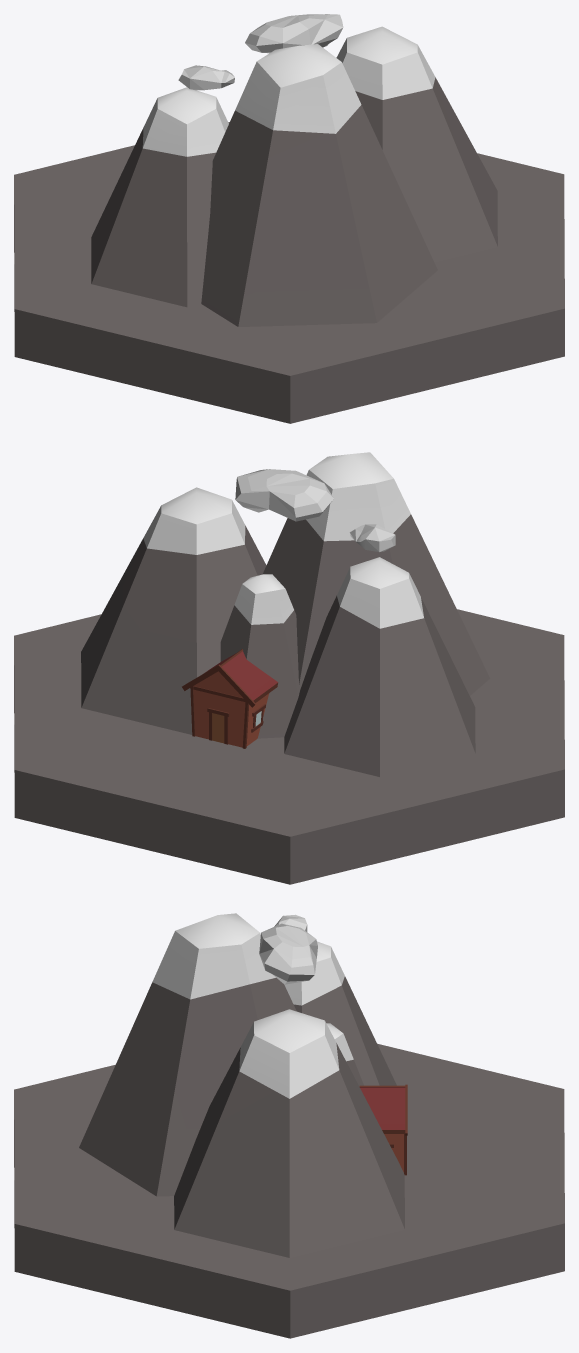
The model's file is Planet_Mine_Hexagon.fbx.
The picture shows the model from 3 angles, top to bottom: view 1: azimuth 30°, elevation 25°; view 2: azimuth 150°, elevation 25°; view 3: azimuth 270°, elevation 25°; orthographic projection.
Visible parts, largest first — view 1: polySurface11, polySurface15, polySurface17, pSphere33, pSphere34; view 2: polySurface11, polySurface17, polySurface15, polySurface16, pCube108, pSphere33, pSphere34; view 3: polySurface11, polySurface15, polySurface17, pSphere33, pCube108, polySurface16.
Part boxes in pixels (left/top/right/bottom): polySurface11: left=14, top=26, right=564, bottom=423; polySurface15: left=201, top=44, right=437, bottom=326; polySurface17: left=91, top=87, right=228, bottom=307; pSphere33: left=245, top=14, right=343, bottom=53; pSphere34: left=178, top=65, right=234, bottom=90; polySurface11: left=14, top=487, right=564, bottom=884; polySurface17: left=284, top=557, right=475, bottom=776; polySurface15: left=262, top=452, right=489, bottom=695; polySurface16: left=220, top=574, right=299, bottom=738; pCube108: left=182, top=651, right=278, bottom=747; pSphere33: left=235, top=469, right=333, bottom=521; pSphere34: left=349, top=524, right=395, bottom=551; polySurface11: left=14, top=1009, right=564, bottom=1338; polySurface15: left=79, top=913, right=296, bottom=1196; polySurface17: left=284, top=941, right=396, bottom=1085; pSphere33: left=259, top=923, right=317, bottom=984; pCube108: left=360, top=1084, right=407, bottom=1172; polySurface16: left=326, top=1023, right=363, bottom=1086.
Bounding box in the file's own units: 6.28 × 3.02 × 5.45.
